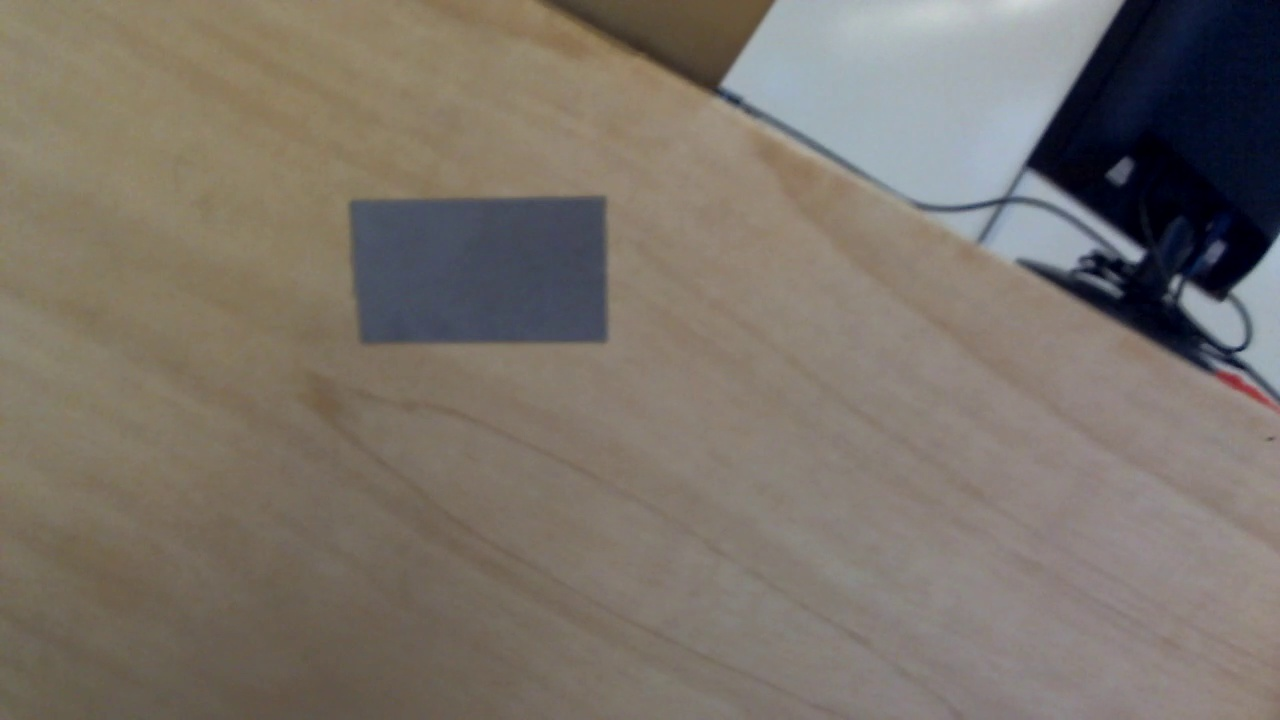Tape: (349, 196, 608, 342)
